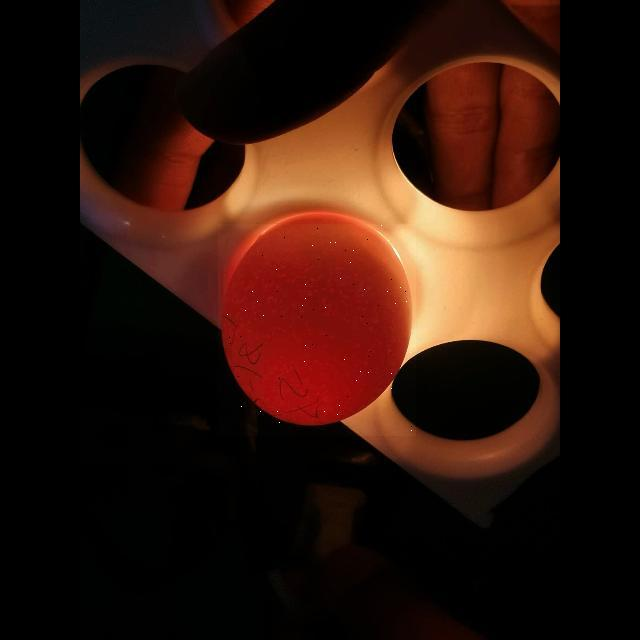Infertile: (218, 224, 416, 436)
